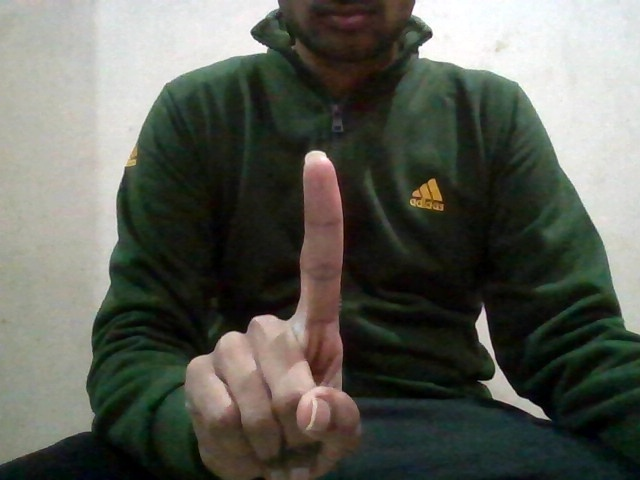D: (180, 147, 358, 480)
